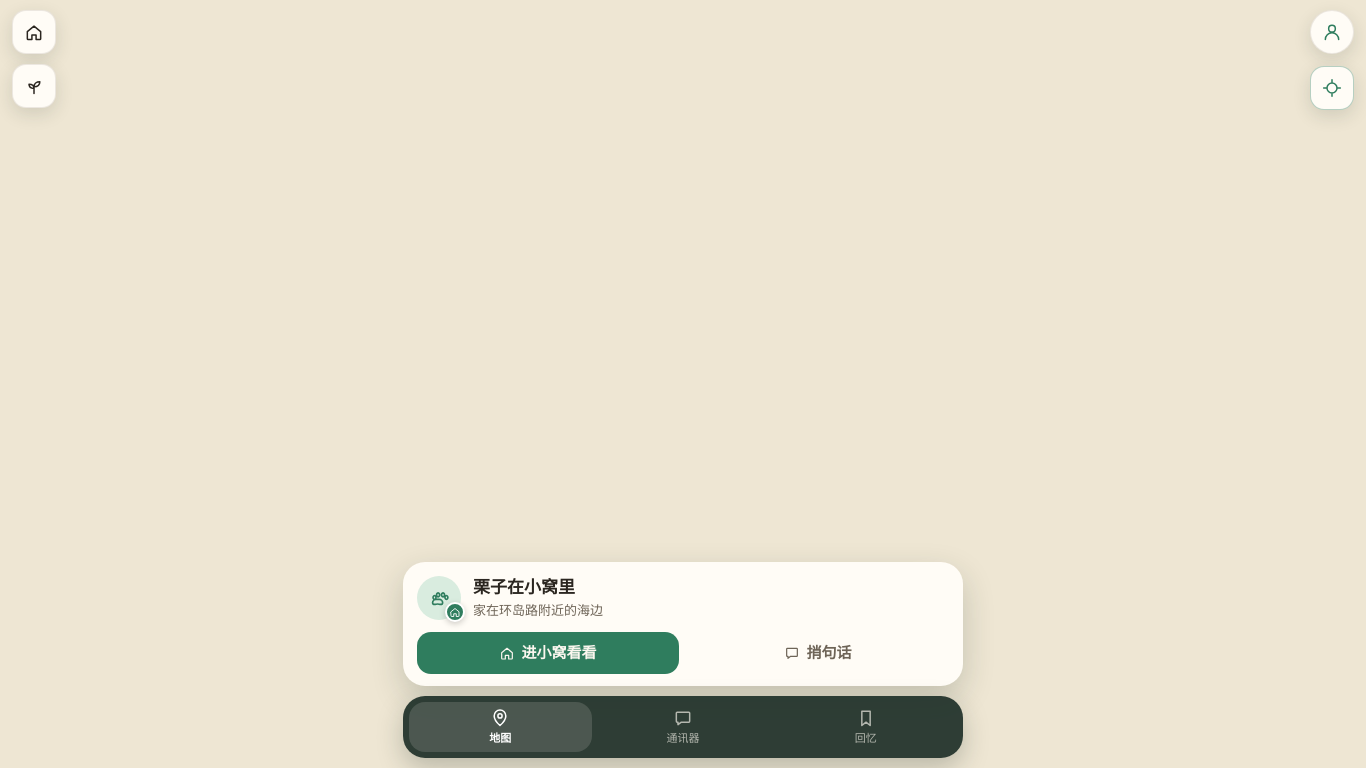
第 0b 步 · 3：左上角“进小窝”跟着面板上那只 › 对照：面板就是当前宠物栗子时点“进小窝”：还是栗子，不写当前宠物
The width and height of the screenshot is (1366, 768).
Expected: the element named "栗子此刻" is shown, left=403, top=562, right=963, bottom=686
Click the link named "进小窝".
click(34, 32)  # box left=12, top=10, right=56, bottom=54
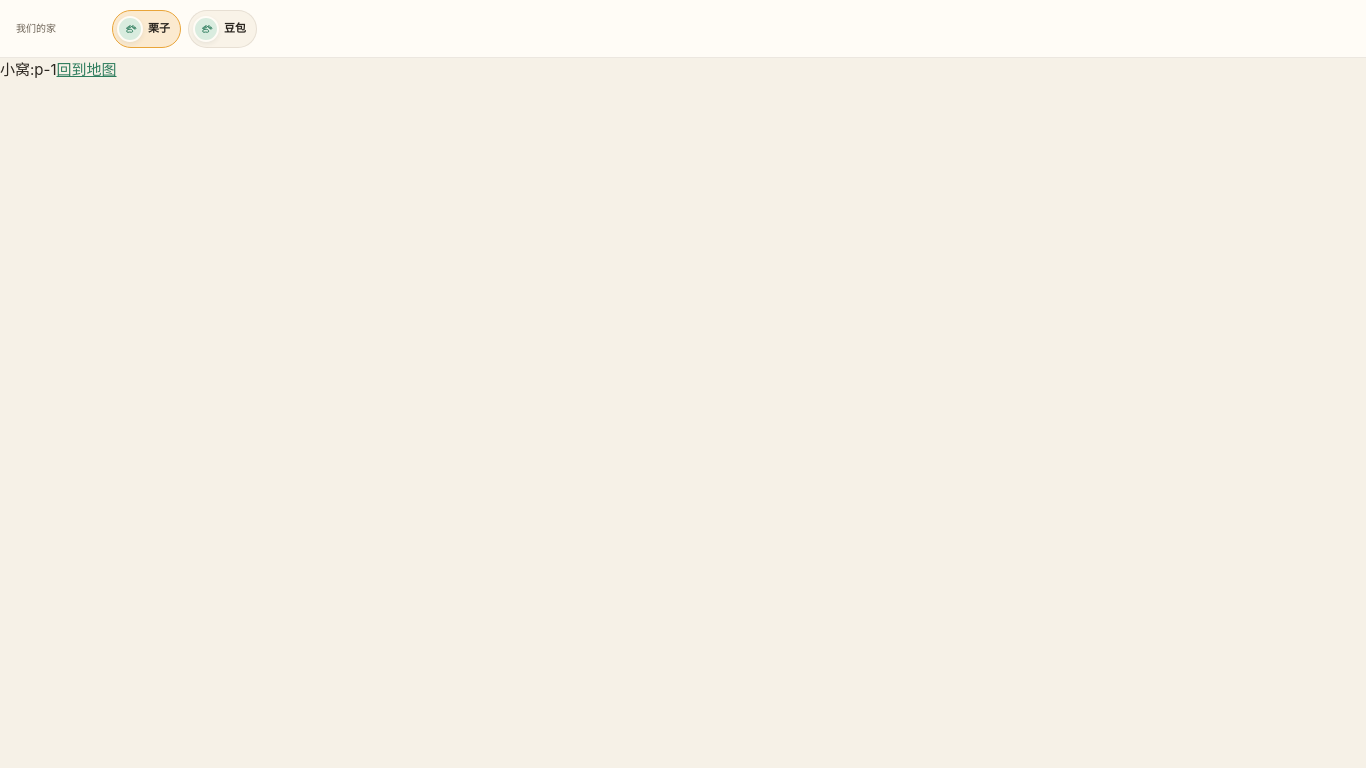
Result: the text with test id "current-pet" reads "小窝:p-1" at left=0, top=60, right=56, bottom=79
